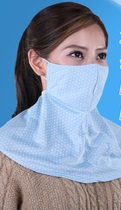face_mask: (50, 27, 109, 111)
